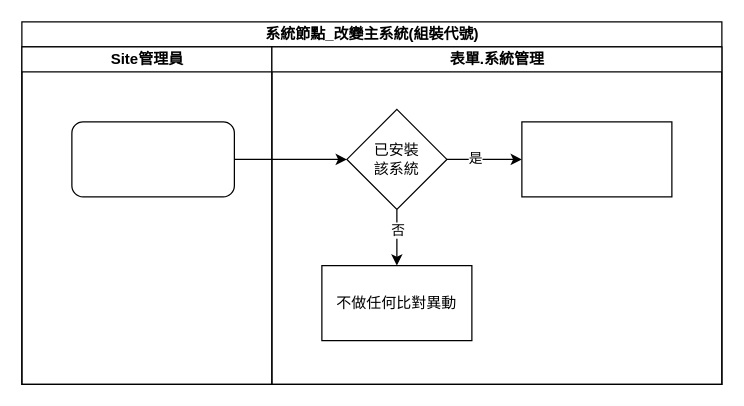
Some shapes in this 744 by 406 pixel diagram are drawn without their labels. Each missing label, with the centre of its shape:
"欄位.主系統(組裝代號) 內容值異動後跳離" belongs at (x=152, y=159).
"系統名稱 各語系比對異動" belongs at (x=596, y=159).
